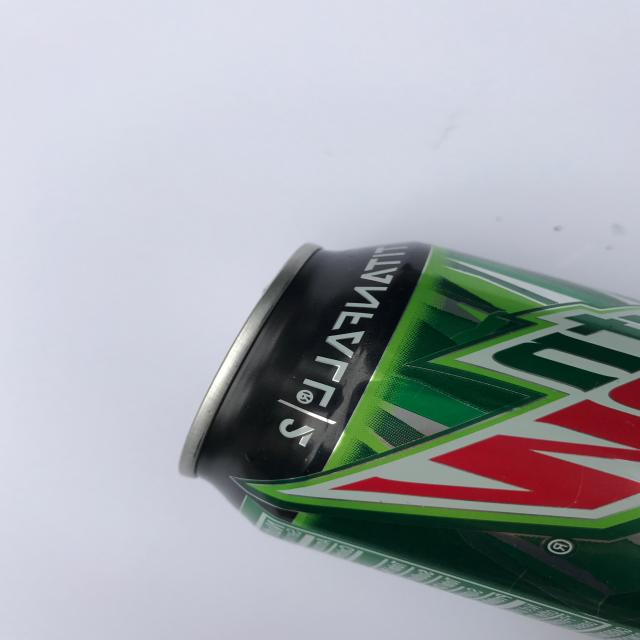metal: (178, 239, 640, 640)
